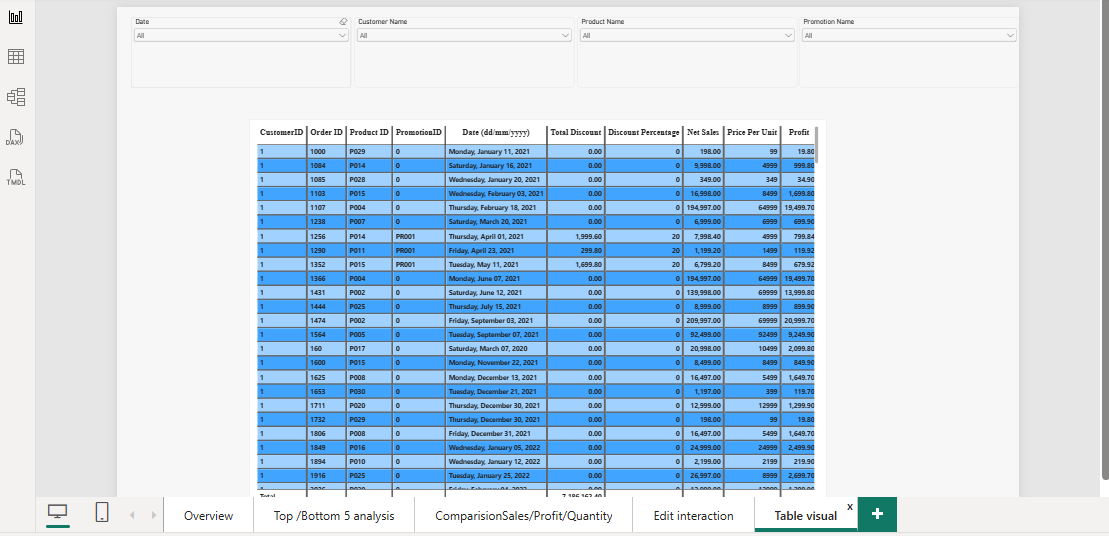

Layout of this report page (visuals, bound fields, positions):
{"tool":"powerbi","page":{"name":"Table visual","canvas":[1920,1080],"ordinal":4},"visuals":[{"type":"tableEx","fields":{"Values":["Fact Table.CustomerID","Fact Table.Order ID","Fact Table.Product ID","Fact Table.PromotionID","Fact Table.Date (dd/mm/yyyy)","Sum(Fact Table.Discount)","Fact Table.Discount Percentage","Fact Table.Net Sales","Fact Table.Price Per Unit","Fact Table.Profit","Fact Table.Total Sales   ","Fact Table.Units Sold"]},"box":[280,237.8,1228.9,842.2],"z":0},{"type":"slicer","fields":{"Values":["Date Table 1.Date"]},"box":[29.6,22.2,468.5,150],"z":1},{"type":"slicer","fields":{"Values":["Dim Customers.Customer Name"]},"box":[503.7,22.2,468.5,150],"z":2},{"type":"slicer","fields":{"Values":["Dim Product.Product Name"]},"box":[977.8,22.2,468.5,150],"z":3},{"type":"slicer","fields":{"Values":["Dim Promotion.Promotion Name"]},"box":[1451.5,22.2,468.5,150],"z":4}]}

Visuals, with their boxes on the page's 1920x1080 design canvas (x1, y1, x2, y2). These are canvas units, not pixel positions in the 1109x536 screenshot, which may show the page scaled, cropped or inside an application window:
tableEx - Fact Table.CustomerID x Fact Table.Order ID: box(280, 238, 1509, 1080)
slicer - Date Table 1.Date: box(30, 22, 498, 172)
slicer - Dim Customers.Customer Name: box(504, 22, 972, 172)
slicer - Dim Product.Product Name: box(978, 22, 1446, 172)
slicer - Dim Promotion.Promotion Name: box(1452, 22, 1920, 172)
